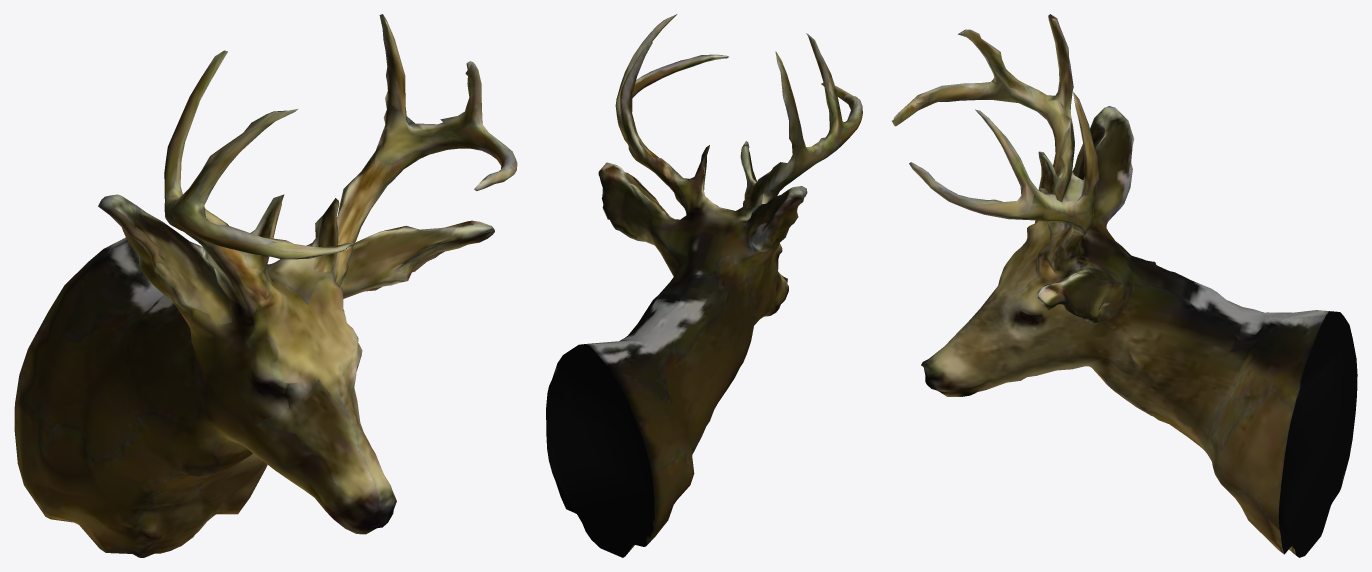
File: obj_deerhead.glb
The picture shows the model from 3 angles, left to right: view 1: azimuth 30°, elevation 25°; view 2: azimuth 150°, elevation 25°; view 3: azimuth 270°, elevation 25°; orthographic projection. The views are drawn at different scales.
Visible parts, largest first — view 1: Object_2; view 2: Object_2; view 3: Object_2.
Part boxes in pixels (left/top/right/bottom): Object_2: left=14, top=14, right=517, bottom=557; Object_2: left=546, top=14, right=862, bottom=557; Object_2: left=892, top=14, right=1357, bottom=557.
Size of the model in its own units: 0.3965 by 0.7 by 0.5865.
Materials: 1 (1 with a texture image).
